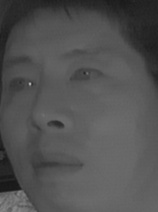eye: (69, 61, 106, 90), (5, 73, 38, 96)
mouth: (29, 147, 86, 181)
